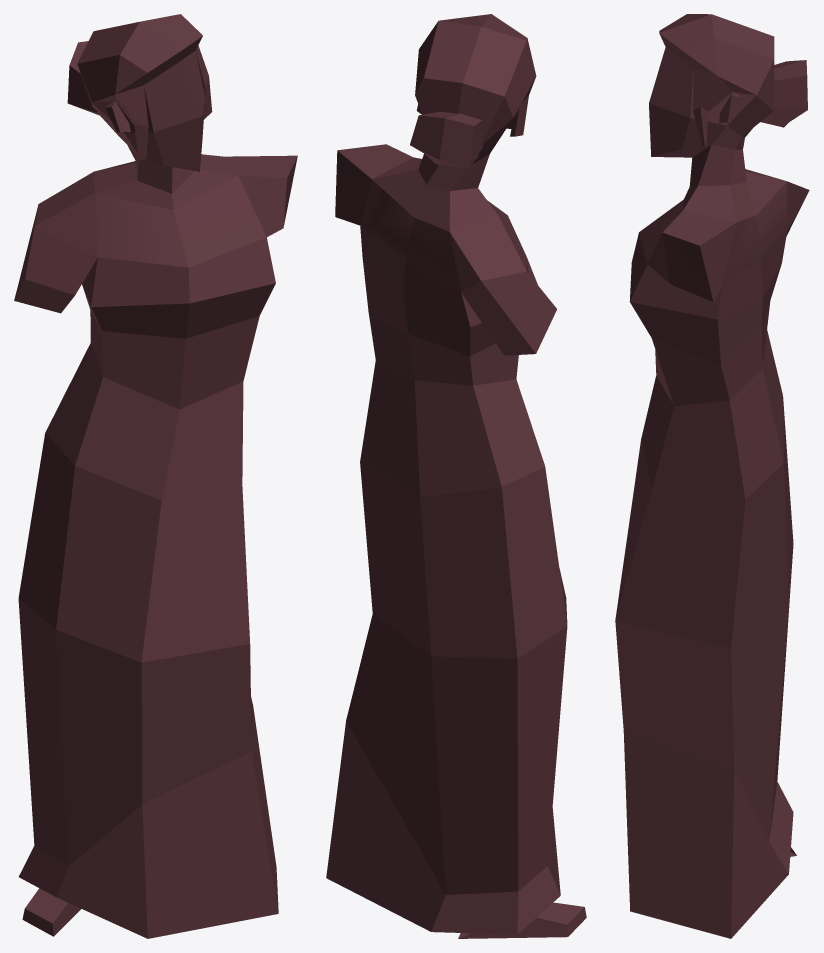
The model's file is SM_Statue_Small_Aphrodite_Empire.fbx.
3 renders of one model, left to right at view 1: azimuth 30°, elevation 25°; view 2: azimuth 150°, elevation 25°; view 3: azimuth 270°, elevation 25°, orthographic. The views are drawn at different scales.
Visible parts, largest first — view 1: SM_Statue_Small_Aphrodite_Empire; view 2: SM_Statue_Small_Aphrodite_Empire; view 3: SM_Statue_Small_Aphrodite_Empire.
Boxes of the visible parts, box(x1,y1,x2,y2) form: SM_Statue_Small_Aphrodite_Empire: box(14, 14, 297, 938); SM_Statue_Small_Aphrodite_Empire: box(326, 14, 586, 938); SM_Statue_Small_Aphrodite_Empire: box(615, 14, 809, 938).
Bounding box in the file's own units: 0.5332 × 1.78 × 0.3666.
